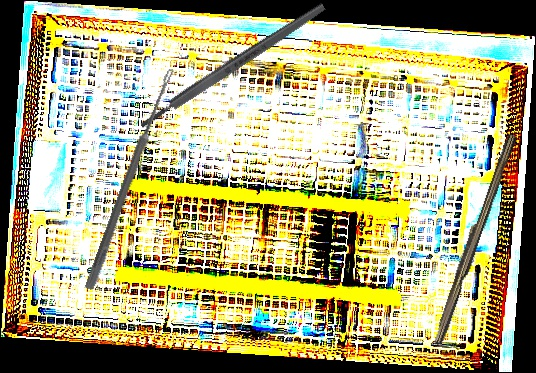Scalpel Handle: (137, 1, 328, 131), (429, 130, 518, 348)
Surgical Spoon: (84, 65, 176, 292)
